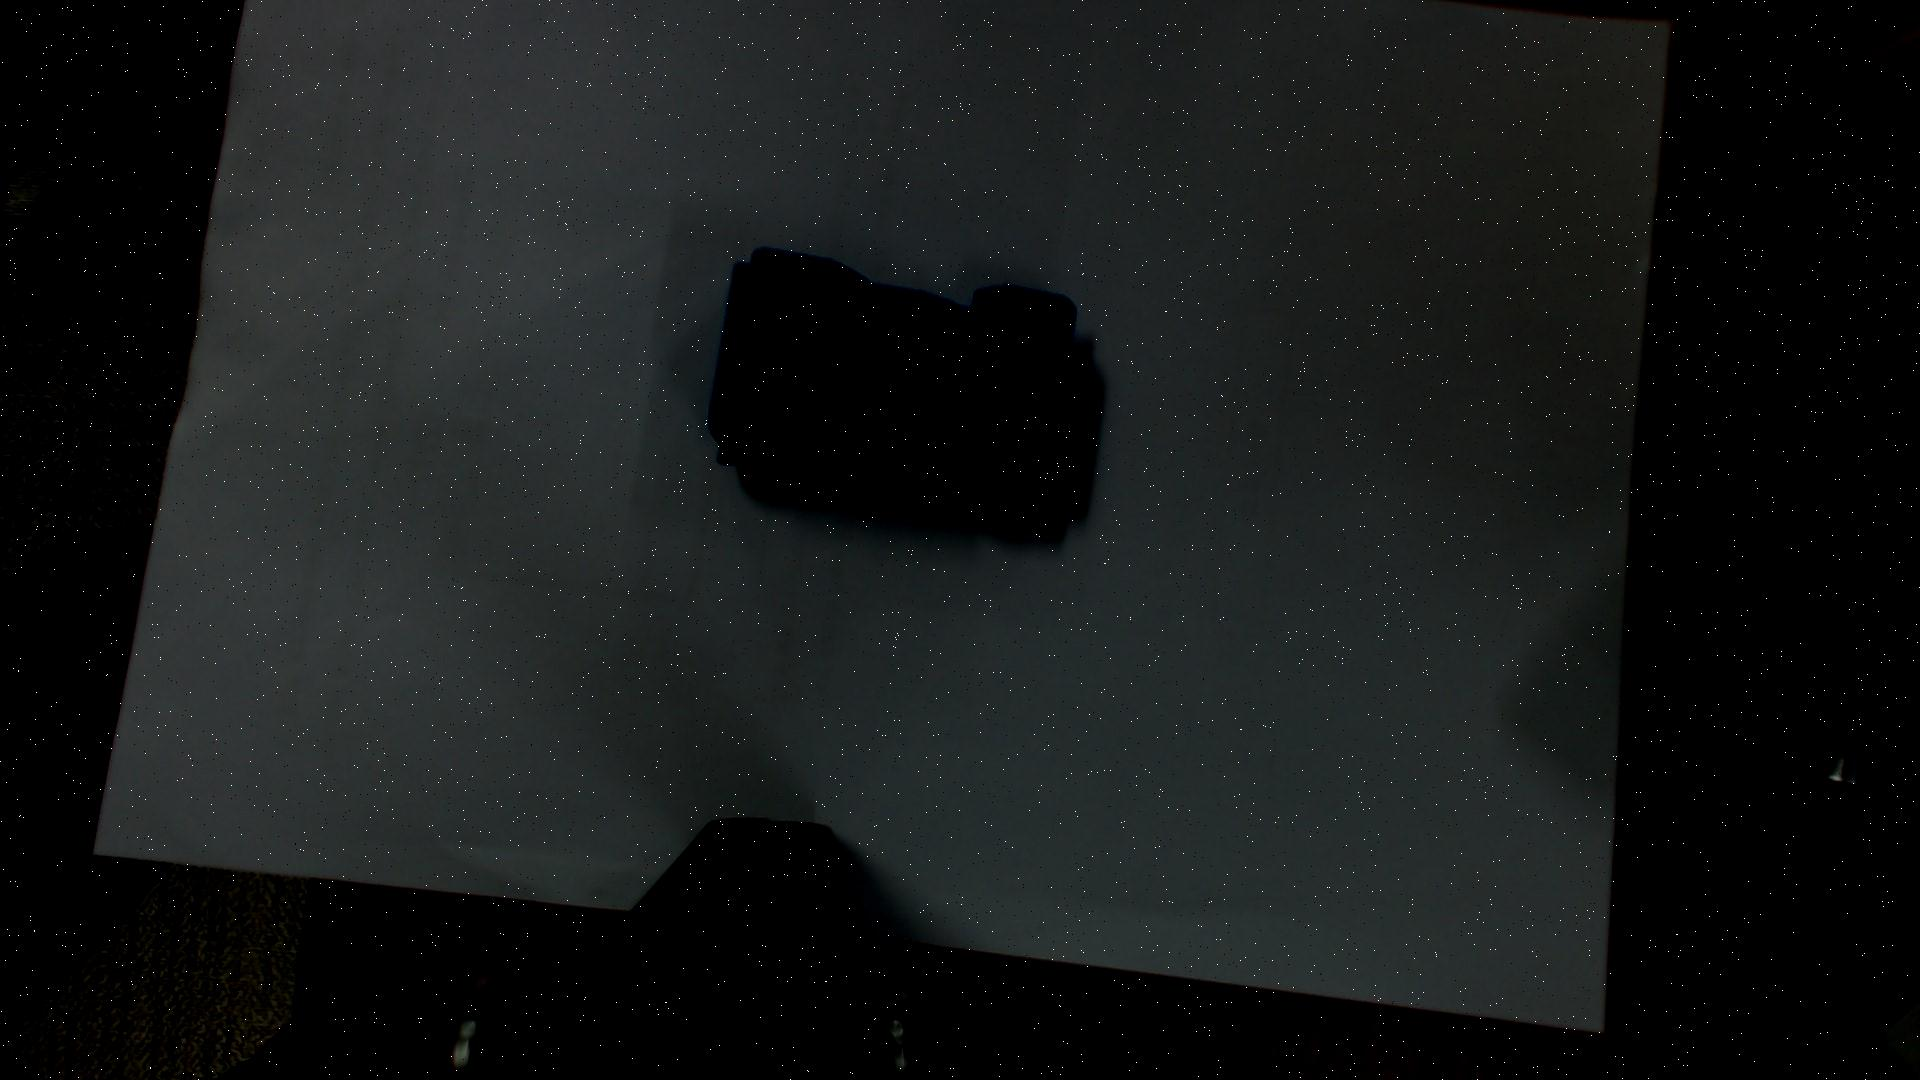Upper_ng: (709, 251, 1075, 512)
